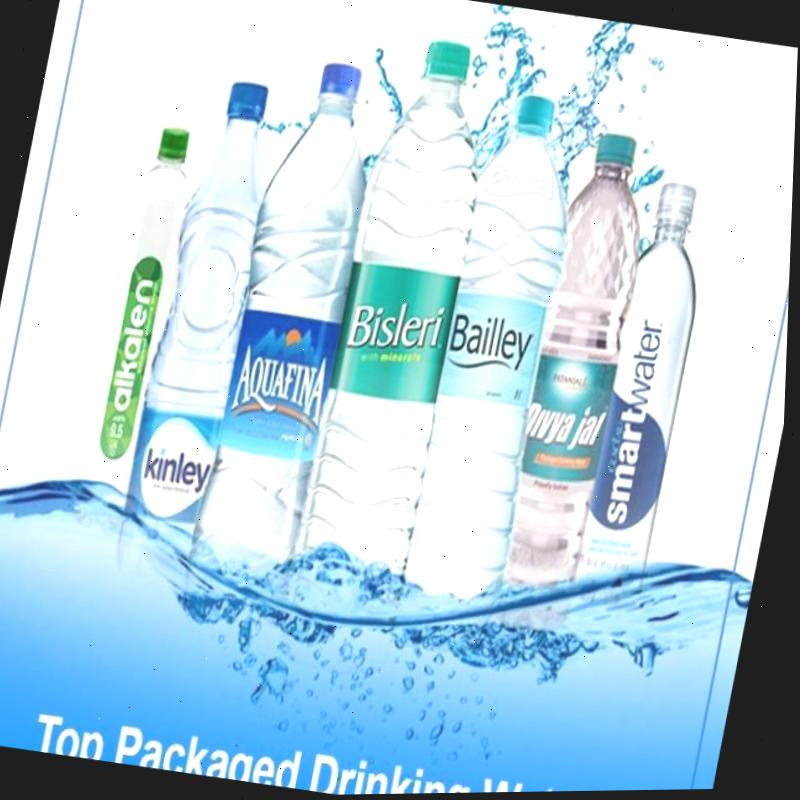botella: (298, 35, 508, 592), (196, 55, 394, 575), (403, 89, 596, 604), (490, 131, 660, 639), (124, 76, 285, 541)
